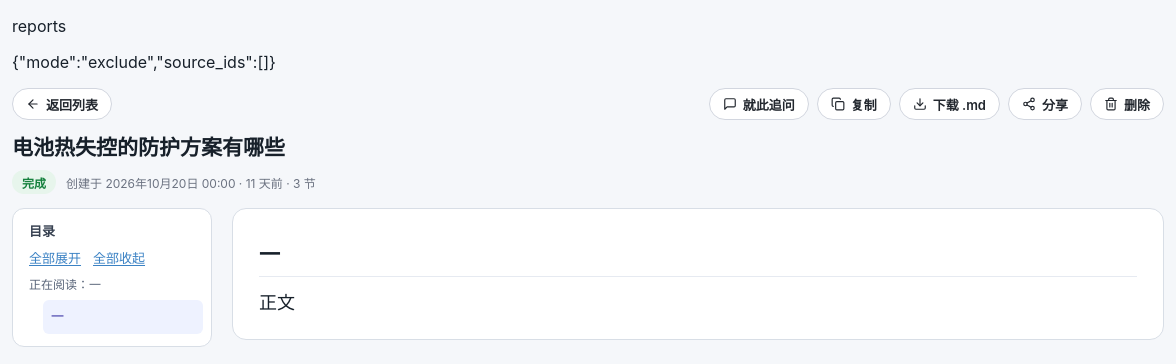
Scenario: 自动模式：不取也不切检索范围，照样开新会话、挂报告、聚焦
Click the button "就此追问" at (759, 104), box [709,88,809,120]
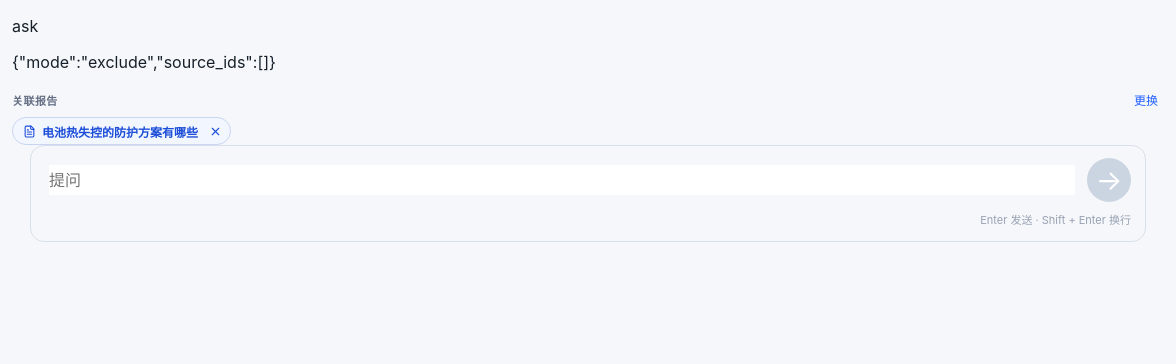
Expected: the text "电池热失控的防护方案有哪些" is shown, [42,122,198,140]
Expected: the text with test id "tab" reads "ask", [12,16,38,36]
// 自动模式也能从标签上摘掉。
Click the button named "移除关联报告" at (215, 131), box [204,120,226,142]
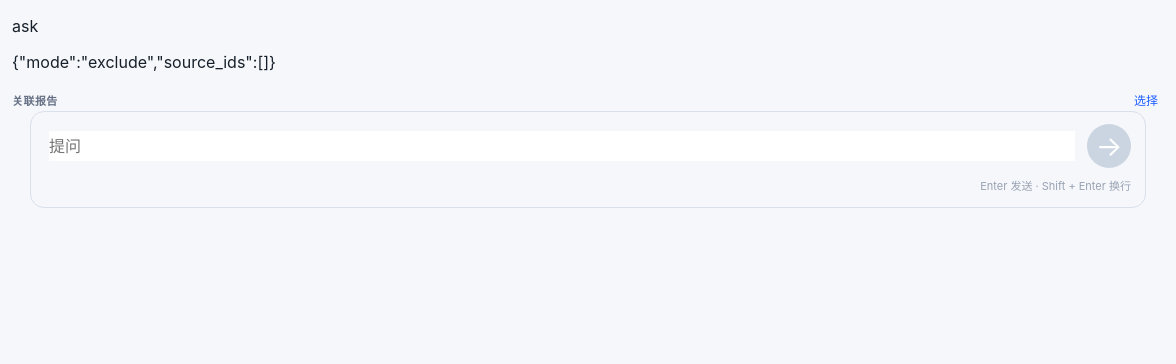
Expected: the text "电池热失控的防护方案有哪些" is gone
